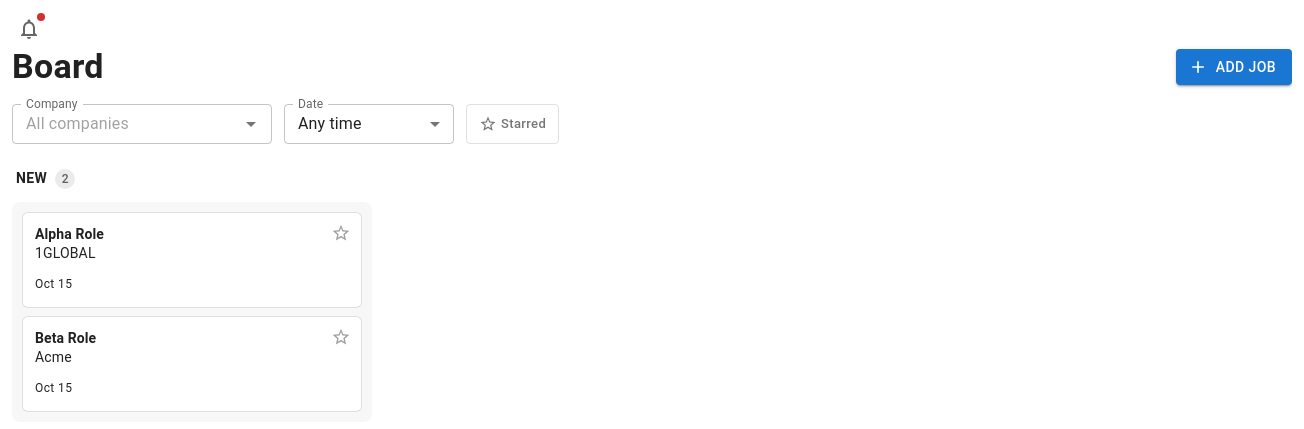
Test: Board filters and hidden columns › lists stages of jobs in hidden columns and of jobs the filters hide
Click the dropdown labelled "Company" at (126, 124), box [18,110,233,138]
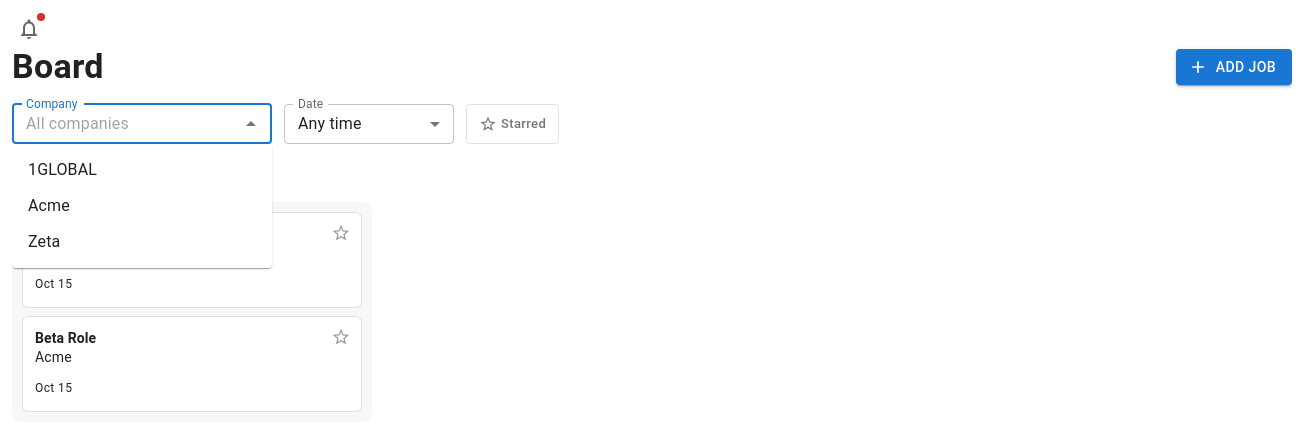
Click the option "Acme" at (49, 206), box [28,196,70,215]
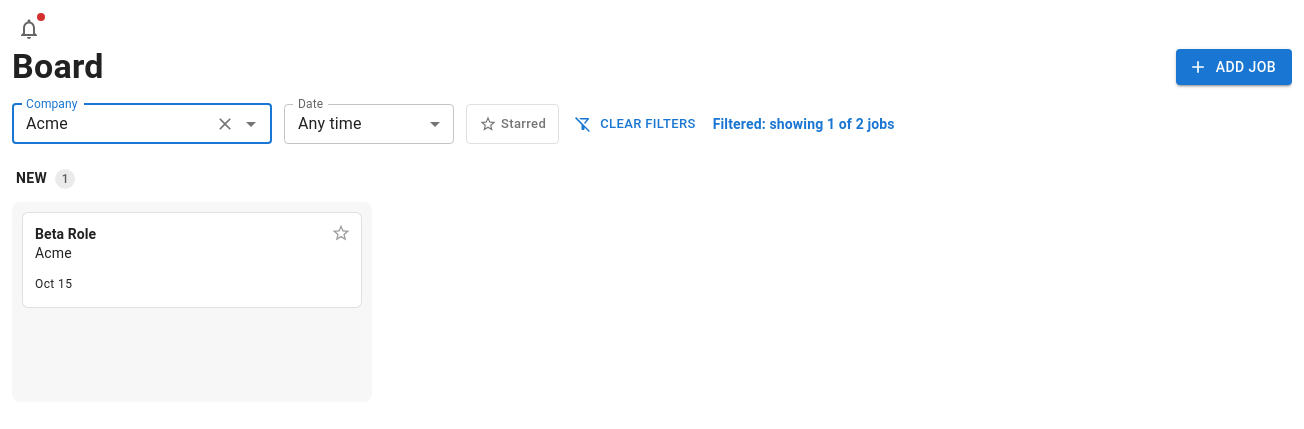
Expected: the text "Hidden Role" is not shown
Expected: the button "Alpha Role" is gone
Click the button named "Upcoming stages" at (29, 29), box [12,12,46,46]
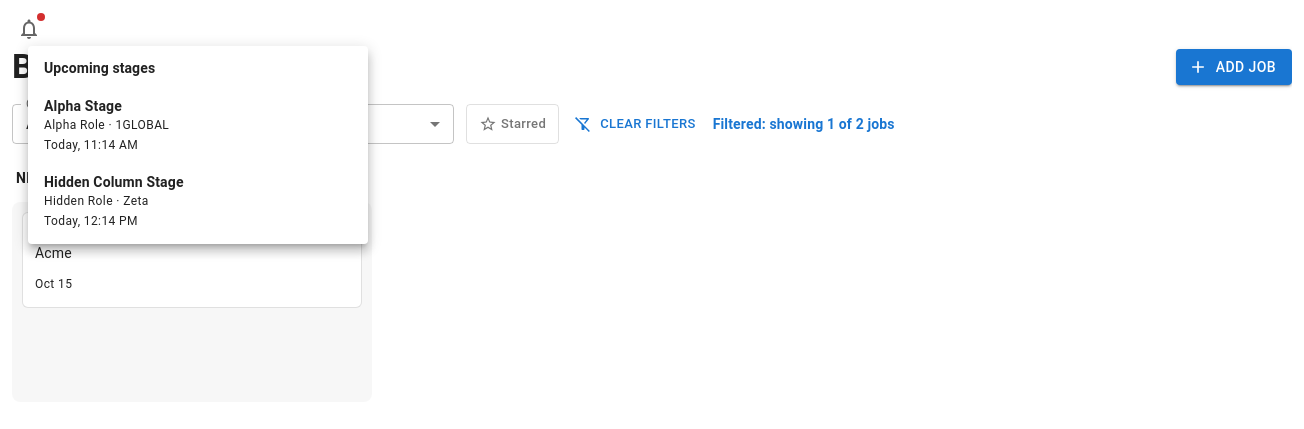
Expected: the text "Alpha Stage" is shown, [44,98,122,114]
Expected: the text "Hidden Column Stage" is shown, [44,174,184,190]
